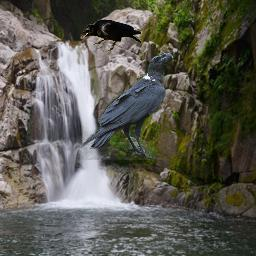Crow: (81, 51, 176, 160), (80, 19, 141, 51)
